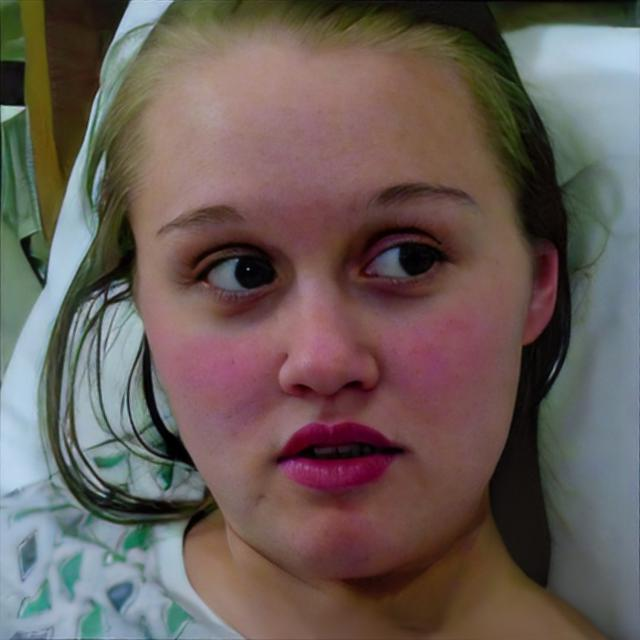surprise: (132, 36, 530, 576)
